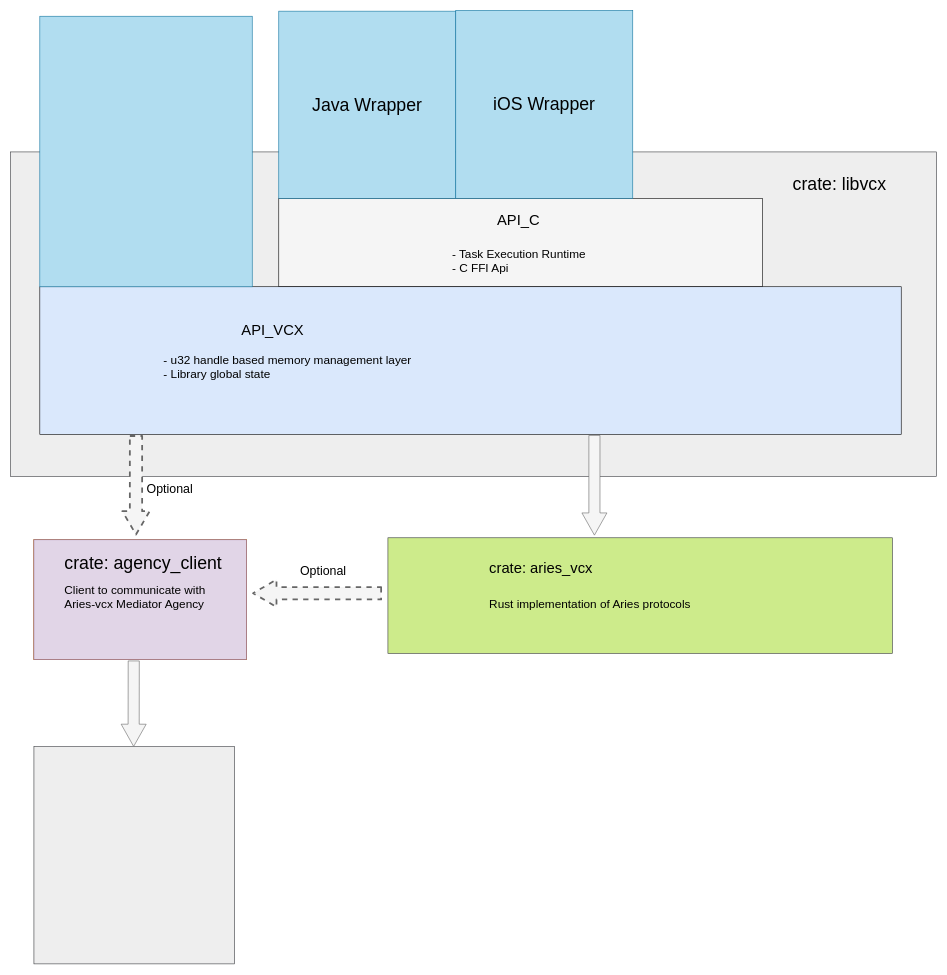
This 947x975 diagram has some shape labels left out. The shapes that lost their labels are listed below. From the top down, each one's centre as x and y in pixels, then its label:
At [145,151]: "NodeJS Wrapper".
At [134,855]: "vcxagency-node - Web service to mediate aries messages".
